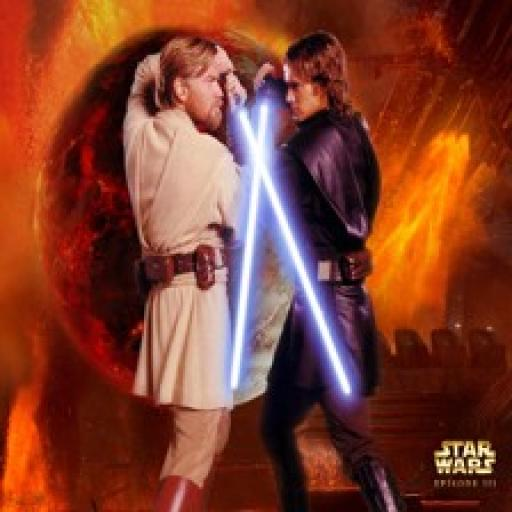human: (255, 27, 399, 512), (105, 29, 233, 512)
lightsaber: (214, 52, 352, 397), (225, 84, 284, 392)
